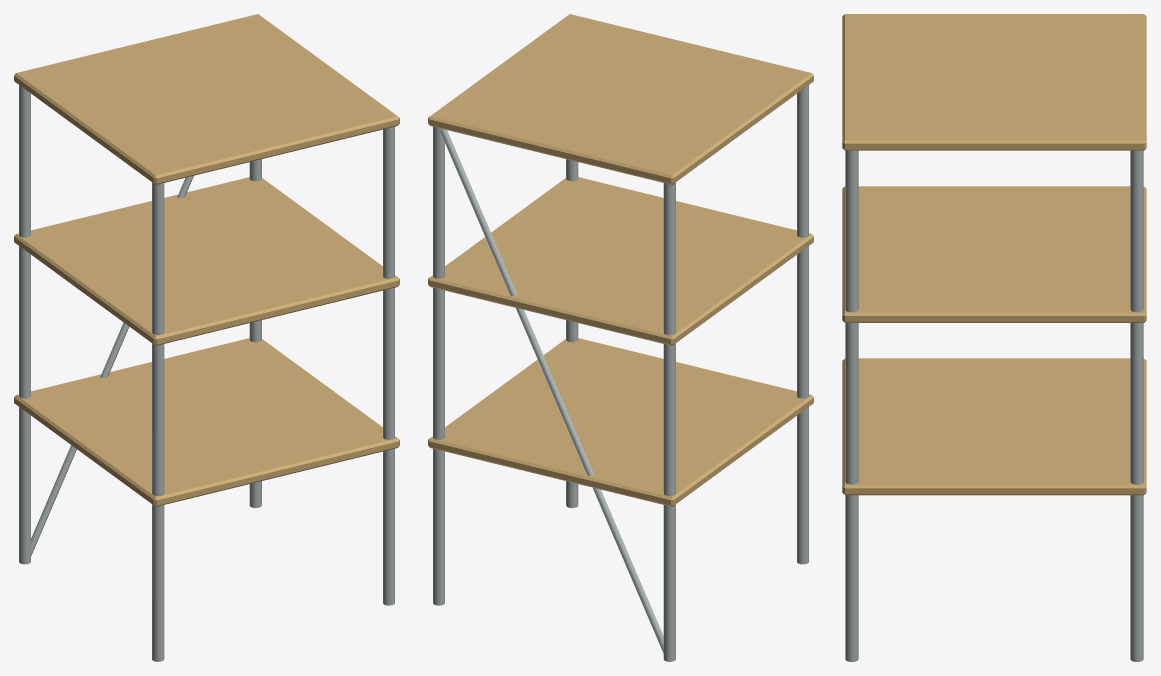
Rendered from construction_scaffold.glb.
The picture shows the model from 3 angles, left to right: view 1: azimuth 30°, elevation 25°; view 2: azimuth 150°, elevation 25°; view 3: azimuth 270°, elevation 25°; orthographic projection. The views are drawn at different scales.
Parts seen in each view (by area): view 1: construction_scaffold; view 2: construction_scaffold; view 3: construction_scaffold.
Part boxes in pixels (left/top/right/bottom): construction_scaffold: left=14, top=14, right=399, bottom=661; construction_scaffold: left=428, top=14, right=813, bottom=661; construction_scaffold: left=842, top=14, right=1146, bottom=661.
Bounding box in the file's own units: 1.6 × 3.04 × 1.6.
